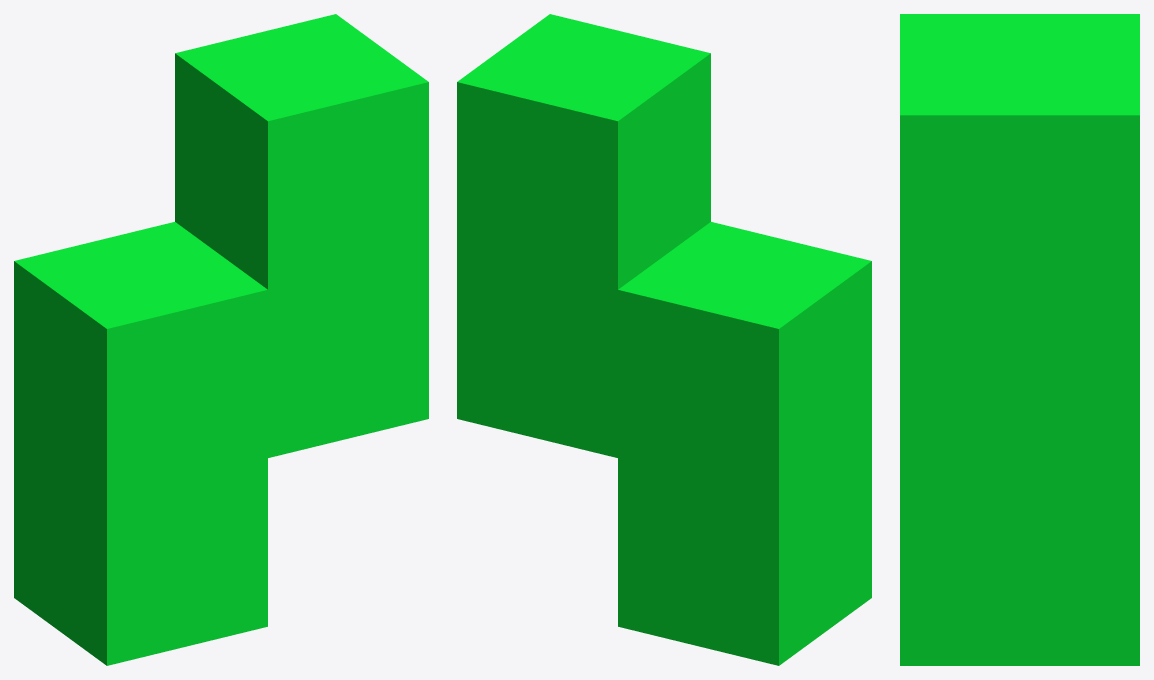
Rendered from Block_Z.fbx.
3 views of the same model, side by side, from view 1: azimuth 30°, elevation 25°; view 2: azimuth 150°, elevation 25°; view 3: azimuth 270°, elevation 25° (orthographic). The views are drawn at different scales.
Parts seen in each view (by area): view 1: pCube10; view 2: pCube10; view 3: pCube10.
Part boxes in pixels (box(x1,y1,x2,y2)): pCube10: box(14, 14, 428, 665); pCube10: box(457, 14, 871, 665); pCube10: box(900, 14, 1139, 665).
Bounding box in the file's own units: 2 × 3 × 1.
